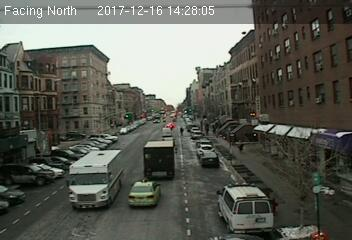car: (128, 179, 159, 208), (198, 150, 219, 166)
police: (215, 181, 275, 232)
truck: (66, 150, 122, 207)
ups: (142, 138, 178, 181)
